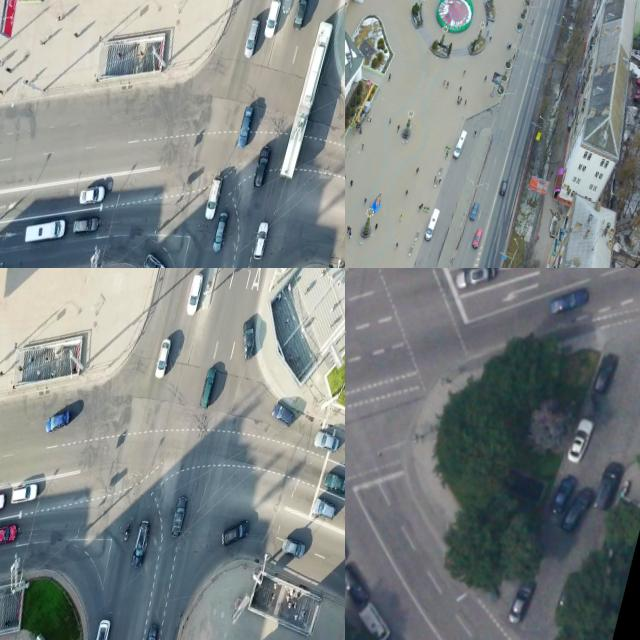UAI: (557, 480, 597, 537), (546, 278, 592, 323), (351, 598, 396, 640), (592, 459, 626, 513), (505, 574, 537, 627), (563, 414, 595, 466), (345, 559, 375, 610), (450, 268, 499, 297), (546, 474, 577, 519), (591, 350, 620, 395), (235, 317, 262, 361), (129, 520, 152, 570), (219, 515, 251, 550), (209, 208, 232, 255), (203, 174, 225, 221), (250, 219, 272, 262), (251, 144, 272, 189), (168, 495, 189, 539), (235, 105, 255, 150), (9, 478, 39, 508), (185, 272, 205, 316), (43, 405, 71, 436), (242, 17, 262, 60), (198, 366, 218, 409), (78, 180, 107, 209), (261, 0, 282, 40), (153, 338, 173, 380), (71, 211, 100, 239), (269, 401, 296, 428), (312, 429, 340, 453), (279, 537, 307, 561), (291, 0, 311, 31), (311, 497, 337, 520), (0, 518, 18, 549), (322, 470, 345, 494), (90, 618, 112, 640), (139, 252, 169, 268), (139, 622, 160, 640), (470, 225, 484, 250), (468, 199, 480, 223), (498, 176, 510, 198), (378, 635, 421, 640), (0, 487, 6, 518)
car: (279, 19, 333, 179)
harvester: (23, 212, 67, 250), (422, 205, 441, 242), (451, 126, 469, 159)
